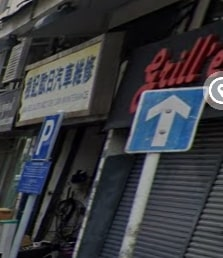One Way Traffic: (122, 86, 207, 157)
Parking: (31, 112, 68, 161)
